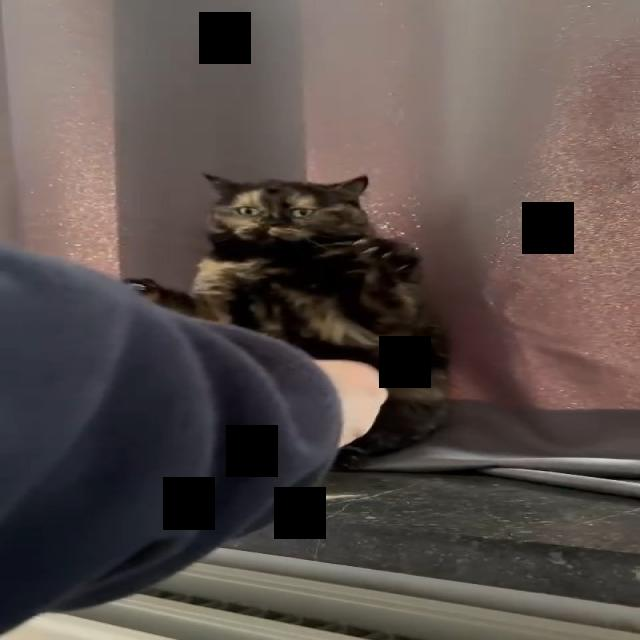authorized: (124, 172, 452, 469)
